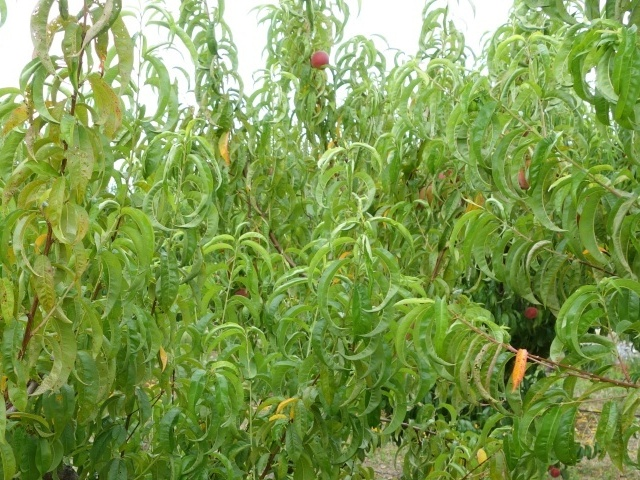peach: (307, 48, 332, 73), (522, 304, 542, 322)
